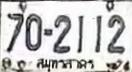0: (24, 12, 42, 50)
1: (94, 14, 102, 53), (76, 14, 84, 53)
2: (52, 14, 70, 52), (107, 14, 124, 52)
7: (6, 12, 24, 51)
SKN: (35, 57, 96, 71)
